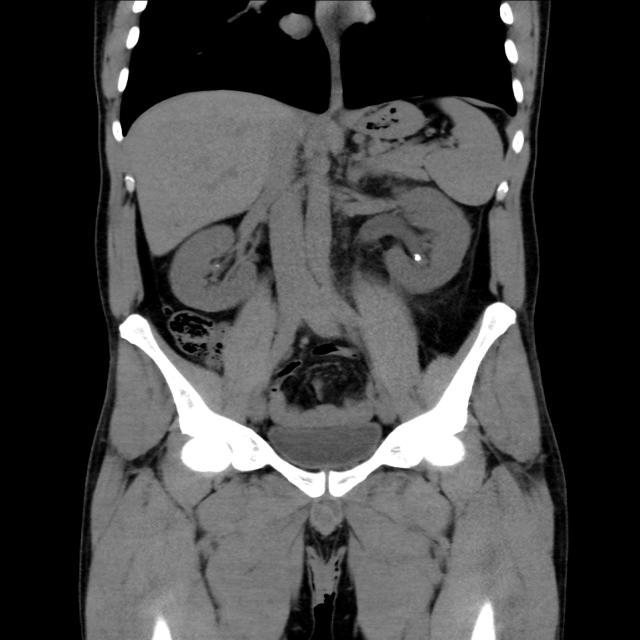kidneystone: (412, 252, 428, 262)
